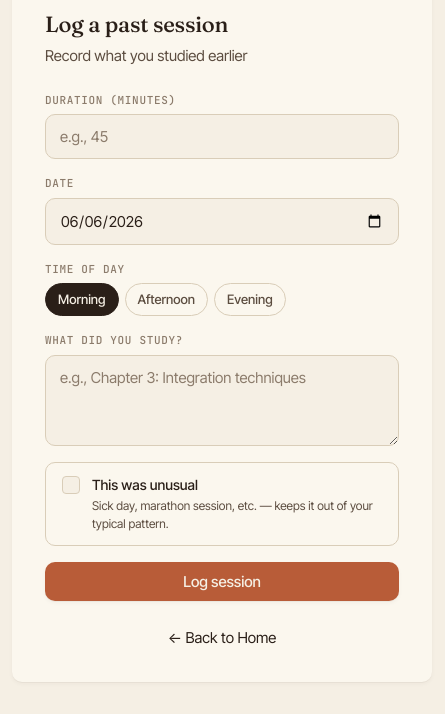
it: Log › shows error when duration is invalid
The width and height of the screenshot is (445, 714).
In the number field labelled "Duration (minutes)": [222, 137] box [45, 114, 399, 159], type "0"
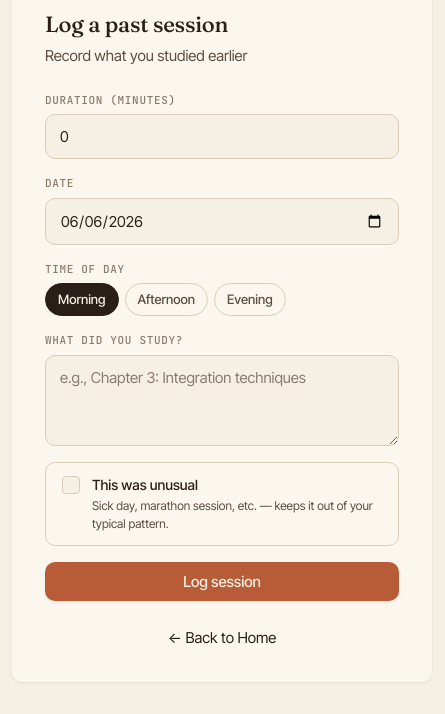
Submit the form from the button "Log session", box [45, 562, 399, 601]
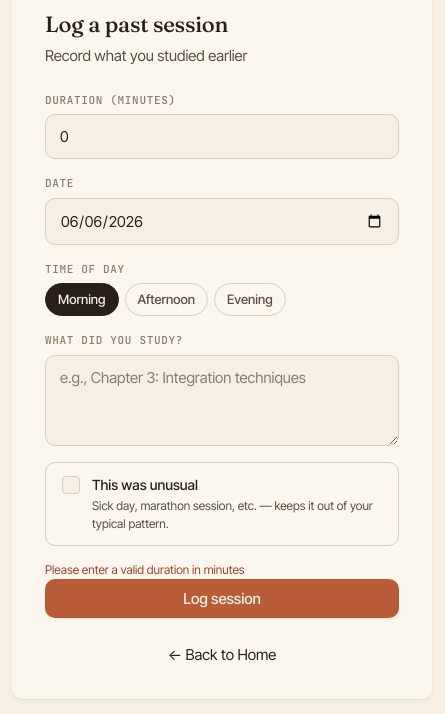
Check: the text "Please enter a valid duration in minutes" is shown, box [45, 562, 244, 577]
